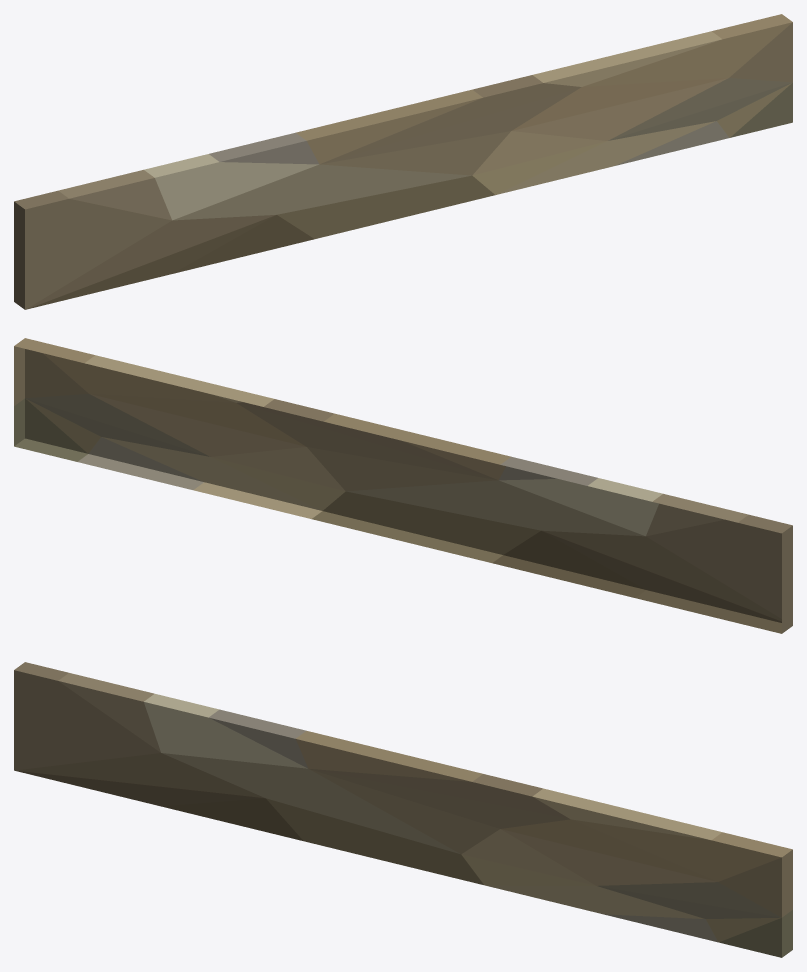
File: Prop_UG-WoodB.fbx
3 renders of one model, top to bottom at view 1: azimuth 30°, elevation 25°; view 2: azimuth 150°, elevation 25°; view 3: azimuth 330°, elevation 25°, orthographic.
Parts seen in each view (by area): view 1: Prop_UG-WoodB; view 2: Prop_UG-WoodB; view 3: Prop_UG-WoodB.
Part boxes in pixels (x1,y1,x2,y2): Prop_UG-WoodB: [14, 14, 792, 309]; Prop_UG-WoodB: [14, 338, 792, 633]; Prop_UG-WoodB: [14, 662, 792, 957].
Bounding box in the file's own units: 400 × 50 × 10.
